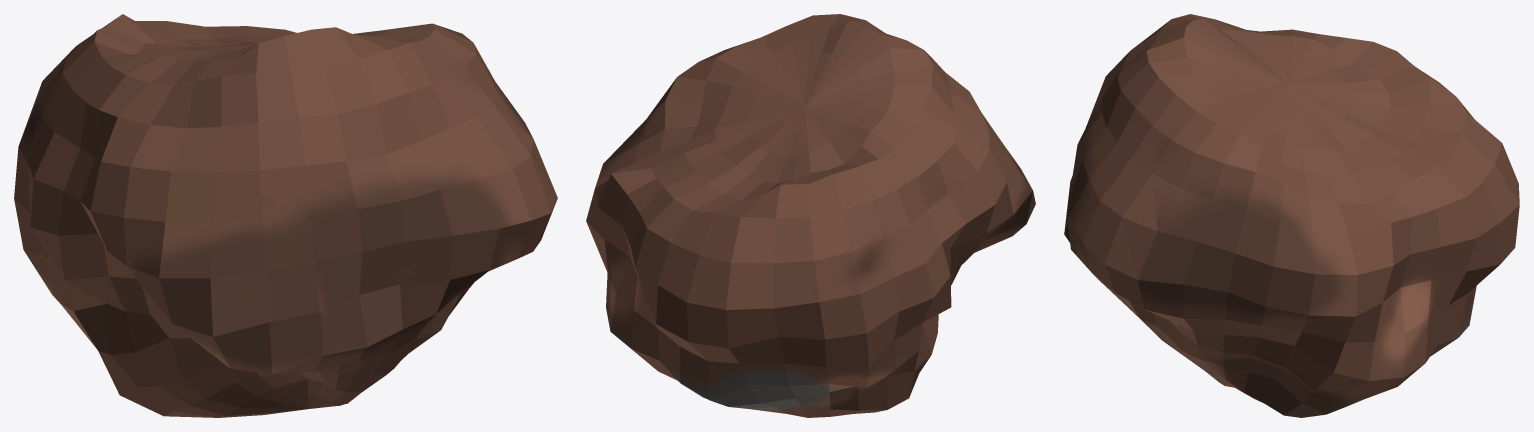
File: Asteroid.obj
The picture shows the model from 3 angles, left to right: view 1: azimuth 30°, elevation 25°; view 2: azimuth 150°, elevation 25°; view 3: azimuth 270°, elevation 25°; orthographic projection. The views are drawn at different scales.
Visible parts, largest first — view 1: Sphere; view 2: Sphere; view 3: Sphere.
Boxes of the visible parts, box(x1,y1,x2,y2) form: Sphere: box(14, 14, 557, 417); Sphere: box(586, 14, 1035, 417); Sphere: box(1064, 14, 1519, 417).
Size of the model in its own units: 1.34 by 1.2 by 1.43.
Materials: 1 (1 with a texture image).
